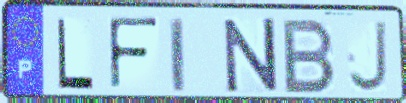B: (281, 16, 339, 96)
F: (106, 15, 161, 94)
I: (167, 15, 188, 95)
J: (346, 19, 391, 95)
L: (55, 16, 96, 92)
N: (221, 16, 280, 96)
